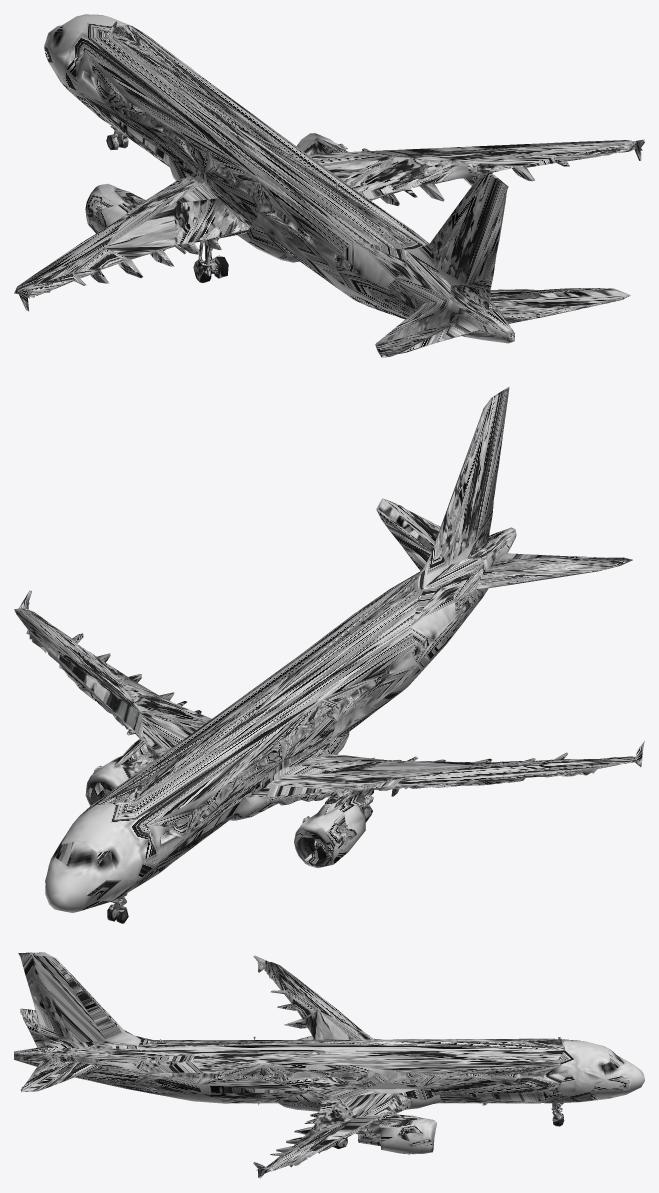
The model's file is passenger_airliner_22.glb.
3 renders of one model, top to bottom at view 1: azimuth 30°, elevation 25°; view 2: azimuth 150°, elevation 25°; view 3: azimuth 270°, elevation 25°, orthographic. The views are drawn at different scales.
Parts seen in each view (by area): view 1: output_unwrapped; view 2: output_unwrapped; view 3: output_unwrapped.
Part boxes in pixels (left/top/right/bottom): output_unwrapped: left=14, top=14, right=644, bottom=357; output_unwrapped: left=14, top=386, right=644, bottom=923; output_unwrapped: left=14, top=952, right=644, bottom=1178.
Size of the model in its own units: 28.33 by 10.83 by 35.96.
Materials: 1 (1 with a texture image).
